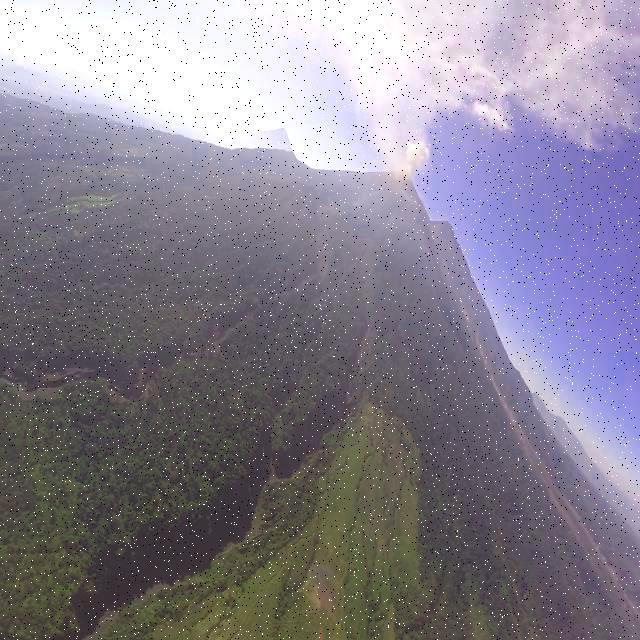Plume: (402, 138, 430, 174)
Summit: (390, 161, 420, 191)
